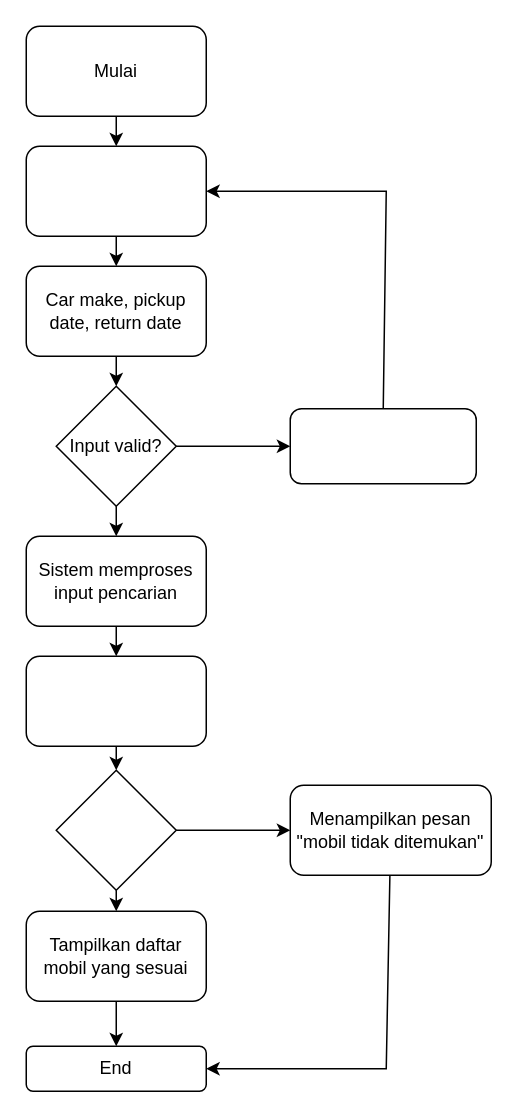
Some shapes in this 518 by 1118 pixel diagram are drawn without their labels. The box of each missing label's shape, as (x1, y1, x2, y2) in pixels:
Menampilkan pesan error: (289, 407, 476, 484)
Mobil ditemukan?: (55, 769, 176, 890)
Sistem menampilkan filter tambahan: (25, 655, 206, 746)
User mengisi form pencarian: (25, 145, 206, 236)
